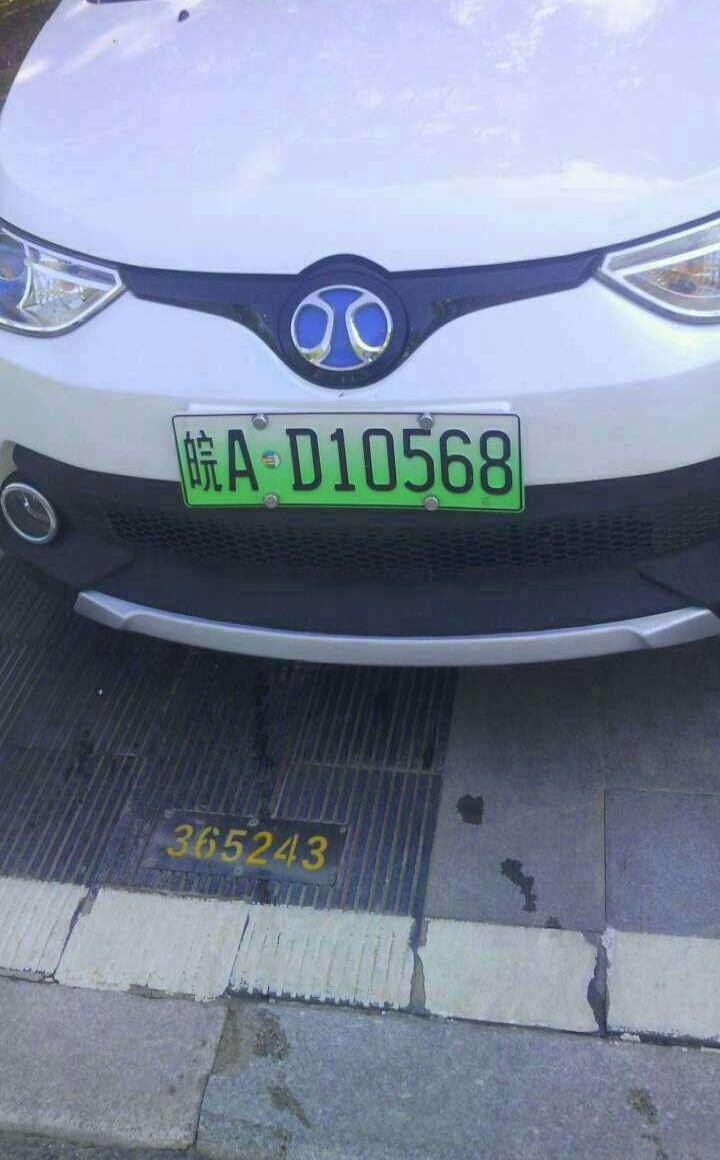car_id: (172, 413, 524, 513)
